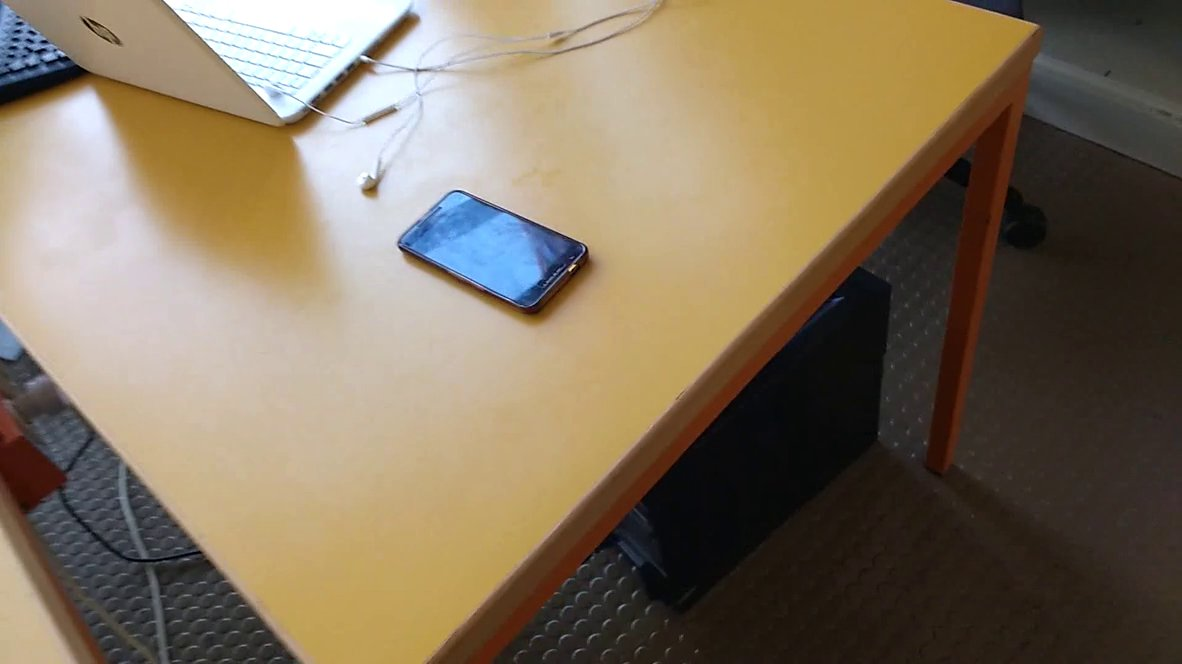phone: (392, 183, 602, 326)
